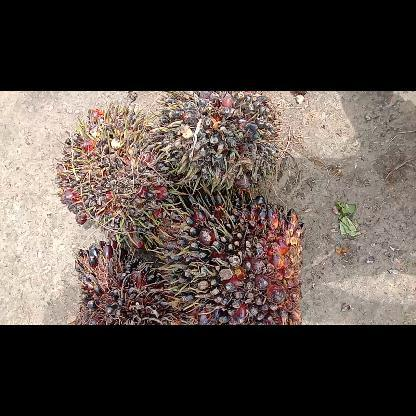TBS abnormal: (170, 198, 302, 324), (58, 108, 176, 232), (156, 93, 276, 194), (72, 236, 180, 324)
